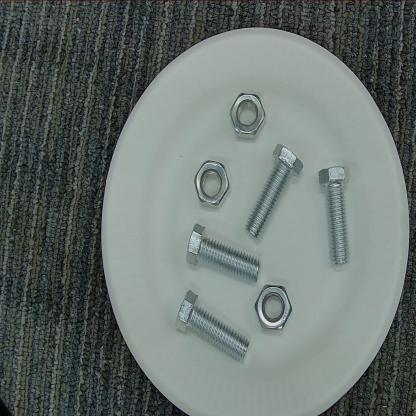FOD: (176, 288, 251, 366), (247, 141, 302, 240), (188, 223, 262, 283), (319, 163, 352, 268), (226, 89, 270, 139), (193, 156, 231, 210), (252, 285, 294, 332)
